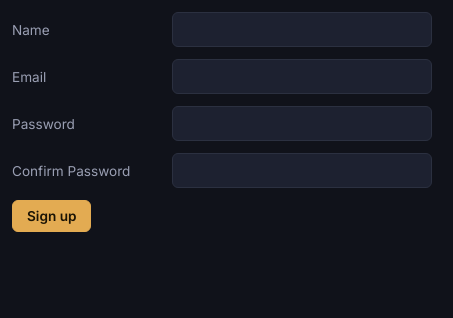
Test case: RhfSignupForm › flags an invalid email and mismatched passwords, with aria wiring
The width and height of the screenshot is (453, 318).
Type "not-an-email" into the field labelled "Email" at (302, 76), box top-left (172, 59), bottom-right (432, 94)
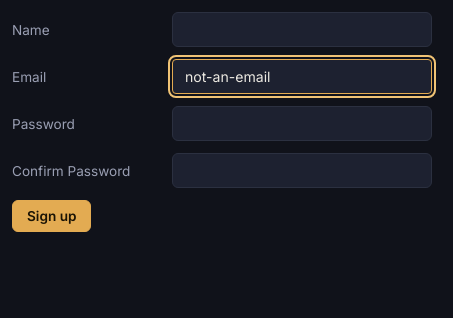
Type "password1" into the password field labelled "Password" at (302, 124), box top-left (172, 106), bottom-right (432, 141)
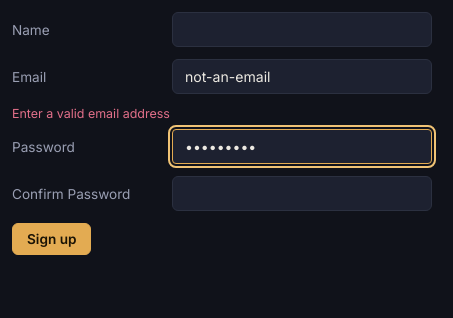
Type "password2" into the password field labelled "Confirm Password" at (302, 194), box top-left (172, 176), bottom-right (432, 211)
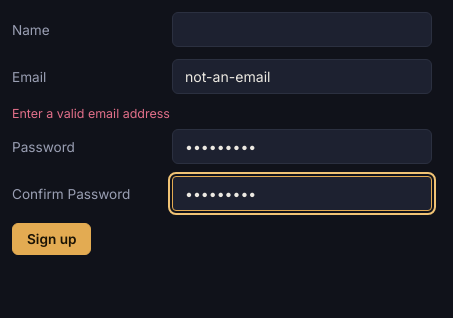
Click the button "Sign up" at (52, 239), box top-left (12, 223), bottom-right (92, 255)
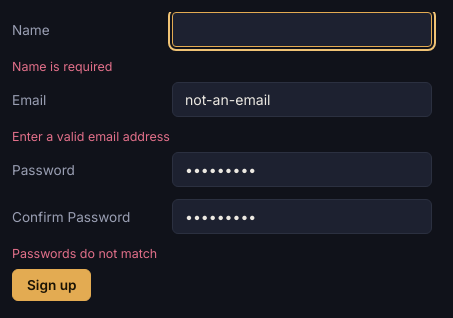
Check: the text "Enter a valid email address" is shown, box top-left (12, 129), bottom-right (170, 144)
Check: the text "Passwords do not match" is shown, box top-left (12, 246), bottom-right (157, 261)
